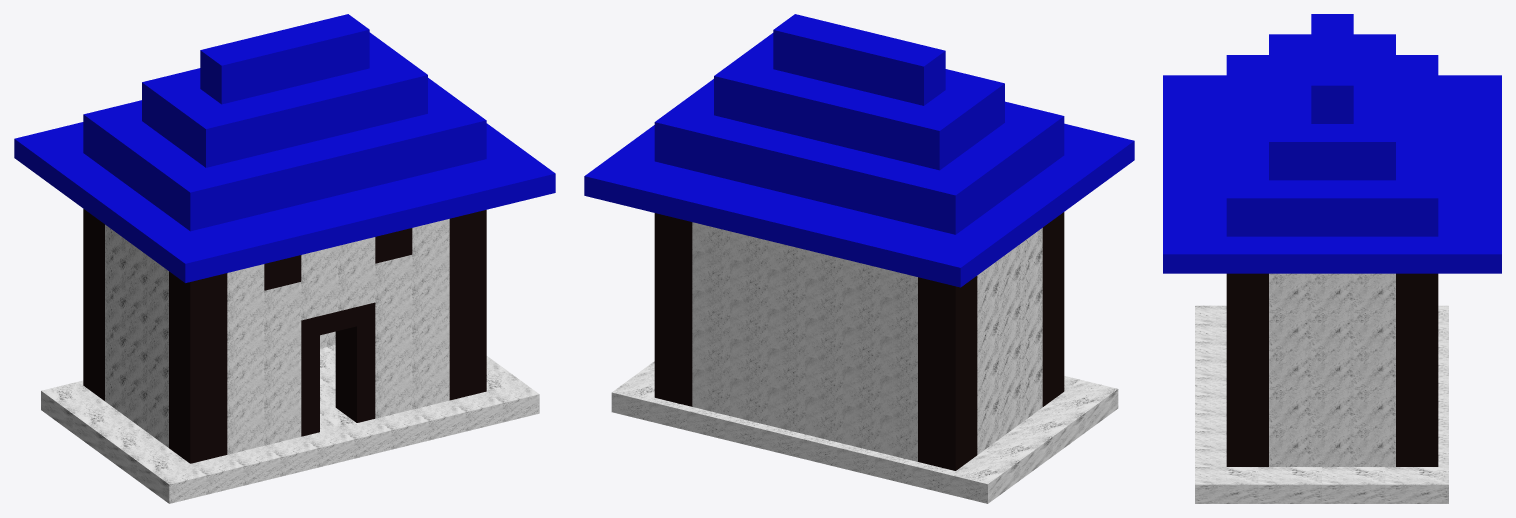
3 renders of one model, left to right at view 1: azimuth 30°, elevation 25°; view 2: azimuth 150°, elevation 25°; view 3: azimuth 270°, elevation 25°, orthographic. The views are drawn at different scales.
Parts seen in each view (by area): view 1: Window_block60, Window_block75, Window_block74, Concrete_block496, Concrete_block590, Concrete_block603, Concrete_block505, Concrete_block507, Concrete_block514, Concrete_block506, Window_block50, Window_block55 (+97 smaller); view 2: Window_block75, Window_block72, Window_block64, Concrete_block563, Concrete_block591, Concrete_block603, Concrete_block574, Concrete_block573, Concrete_block572, Concrete_block571, Window_block66, Window_block54 (+97 smaller); view 3: Concrete_block601, Window_block76, Window_block54, Window_block53, Window_block52, Window_block51, Window_block50, Window_block70, Window_block71, Window_block69, Concrete_block598, Concrete_block583 (+85 smaller).
Boxes of the visible parts, x1,y1,x2,y2 form: Window_block60: [169, 168, 227, 231]; Window_block75: [200, 41, 258, 104]; Window_block74: [184, 104, 242, 167]; Concrete_block496: [137, 452, 206, 503]; Concrete_block590: [153, 231, 222, 282]; Concrete_block603: [78, 176, 157, 235]; Concrete_block505: [169, 293, 227, 347]; Concrete_block507: [169, 371, 227, 424]; Concrete_block514: [169, 410, 227, 463]; Concrete_block506: [169, 332, 227, 386]; Window_block50: [428, 105, 486, 167]; Window_block55: [206, 159, 264, 222]; Window_block75: [886, 41, 945, 105]; Window_block72: [902, 106, 961, 170]; Window_block64: [918, 170, 977, 234]; Concrete_block563: [950, 451, 1020, 503]; Concrete_block591: [923, 235, 993, 287]; Concrete_block603: [989, 179, 1069, 239]; Concrete_block574: [918, 298, 977, 352]; Concrete_block573: [918, 337, 977, 392]; Concrete_block572: [918, 377, 977, 431]; Concrete_block571: [918, 416, 977, 470]; Window_block66: [751, 69, 810, 133]; Window_block54: [654, 106, 713, 170]; Concrete_block601: [1290, 236, 1374, 273]; Window_block76: [1311, 67, 1353, 123]; Window_block54: [1396, 180, 1438, 236]; Window_block53: [1353, 180, 1395, 236]; Window_block52: [1311, 180, 1353, 236]; Window_block51: [1269, 180, 1311, 236]; Window_block50: [1226, 180, 1268, 236]; Window_block70: [1311, 124, 1353, 180]; Window_block71: [1269, 124, 1311, 180]; Window_block69: [1353, 124, 1395, 180]; Concrete_block598: [1438, 236, 1501, 273]; Concrete_block583: [1163, 236, 1226, 273].
Size of the model in its own units: 10 by 9.5 by 8.
